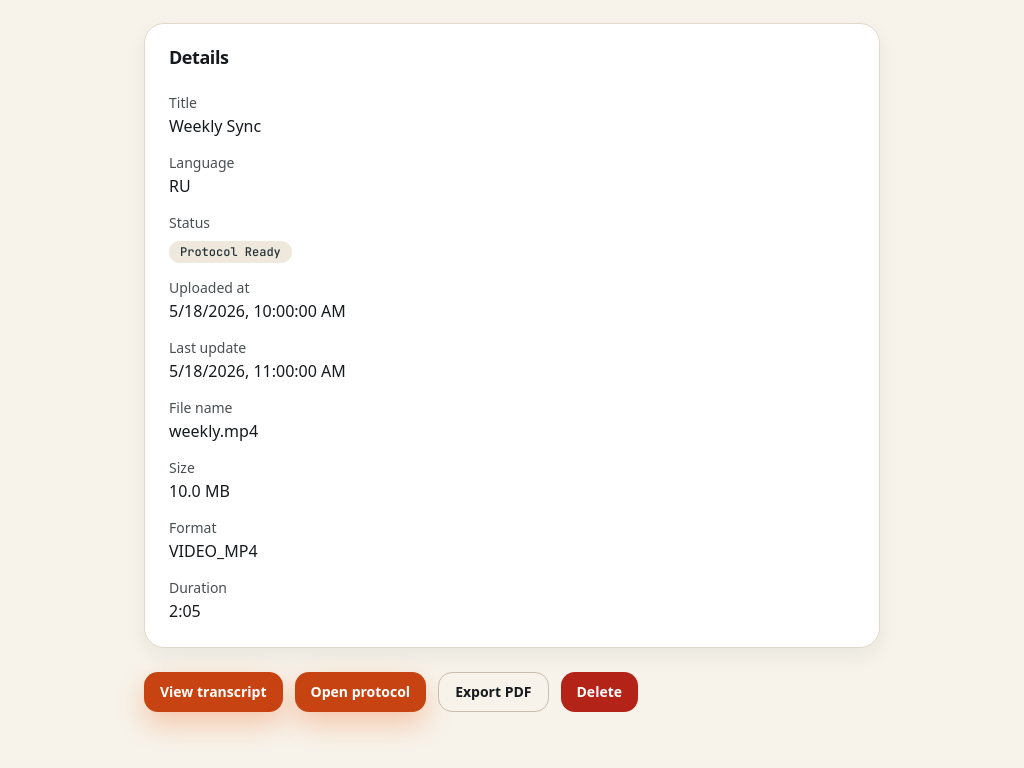
MeetingDetailPage › shows delete confirm dialog when delete button clicked
(page scrolled)
What coordinates should you click on to do the following:
click the button with test id "btn-delete"
I would click on:
 (599, 692)
Its box is [560, 672, 638, 712].
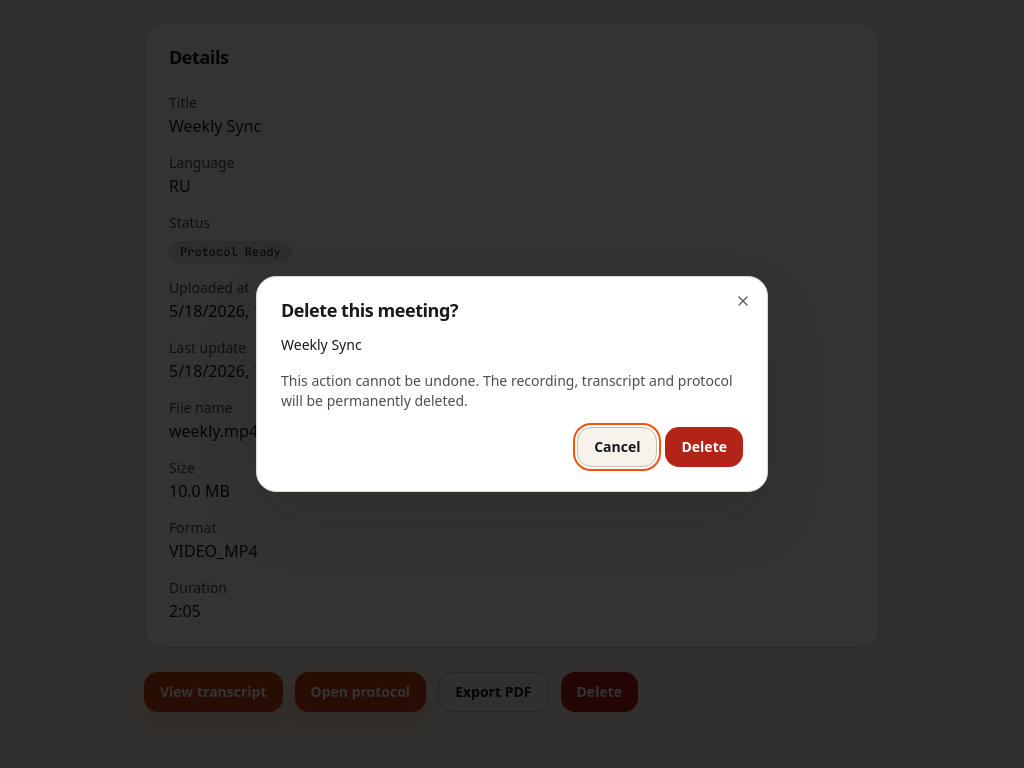
Now the dialog with test id "delete-confirm-dialog" is shown, box [256, 276, 768, 492]
